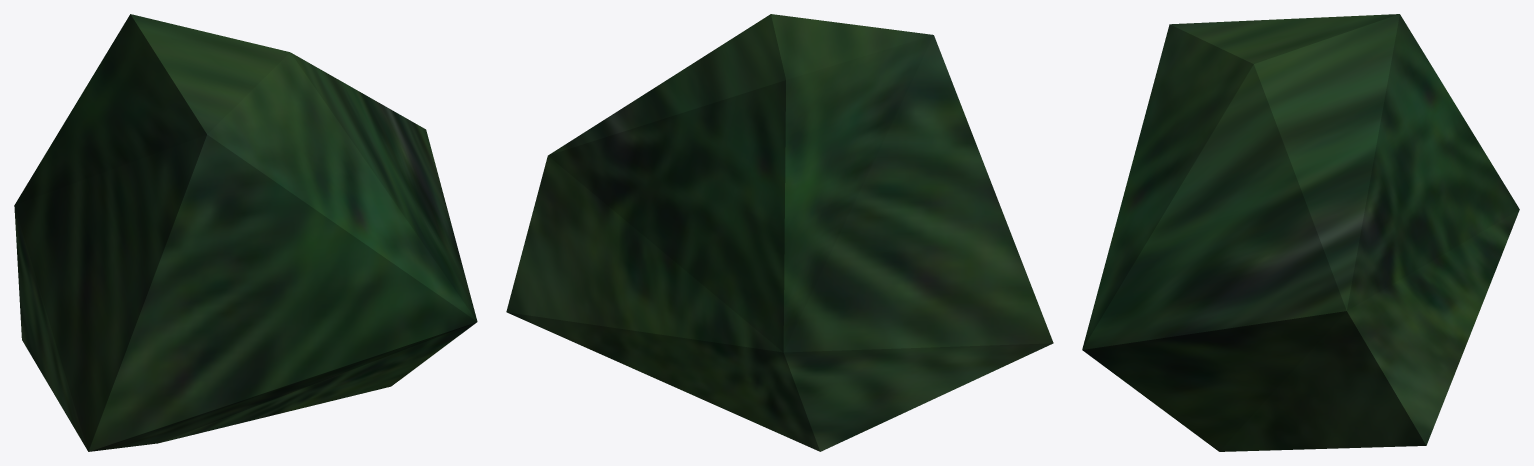
File: TheOctagon_Floor_2_Rock_5.gltf
3 renders of one model, left to right at view 1: azimuth 30°, elevation 25°; view 2: azimuth 150°, elevation 25°; view 3: azimuth 270°, elevation 25°, orthographic. The views are drawn at different scales.
Parts seen in each view (by area): view 1: TheOctagon_Floor_2_Rock_5; view 2: TheOctagon_Floor_2_Rock_5; view 3: TheOctagon_Floor_2_Rock_5.
Boxes of the visible parts, x1,y1,x2,y2 form: TheOctagon_Floor_2_Rock_5: (14,14,477,451); TheOctagon_Floor_2_Rock_5: (506,14,1053,451); TheOctagon_Floor_2_Rock_5: (1082,14,1519,451).
Bounding box in the file's own units: 3 × 2.32 × 2.61.
1 material, 1 textured.
